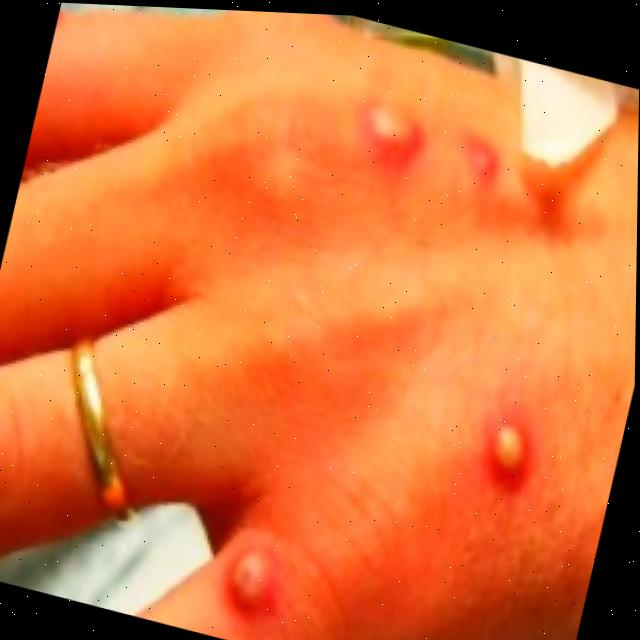Eczema: (336, 81, 523, 212), (464, 399, 533, 503), (225, 536, 264, 595)
